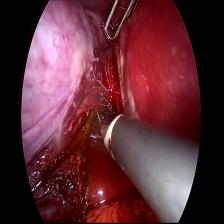Grasper: (99, 0, 139, 44)
Hook: (94, 105, 128, 164)
